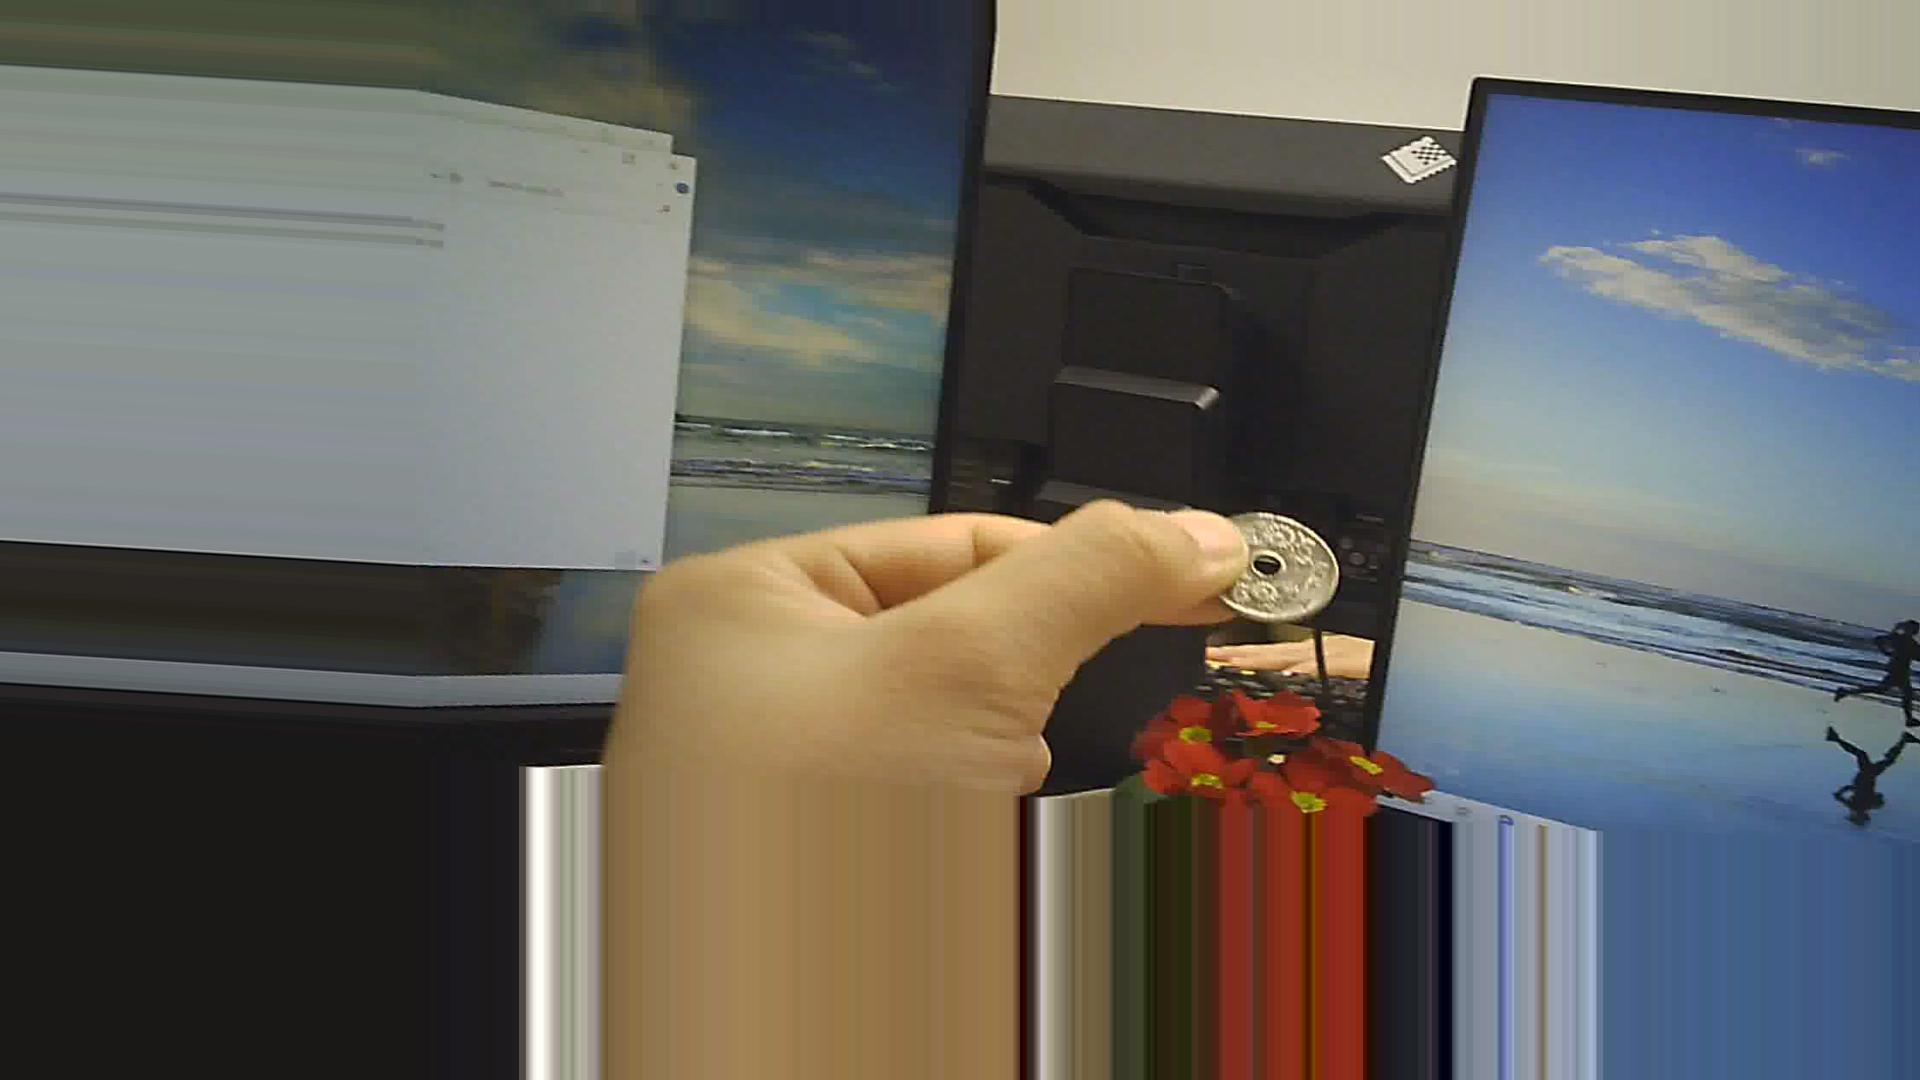50 Yen: (1201, 502, 1337, 621)
